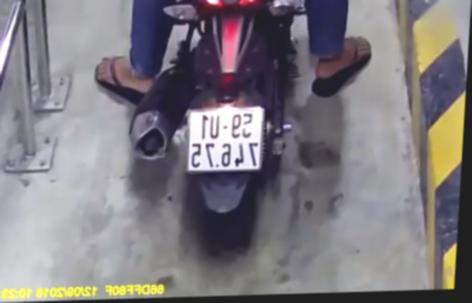License_Plate: (175, 103, 270, 179)
